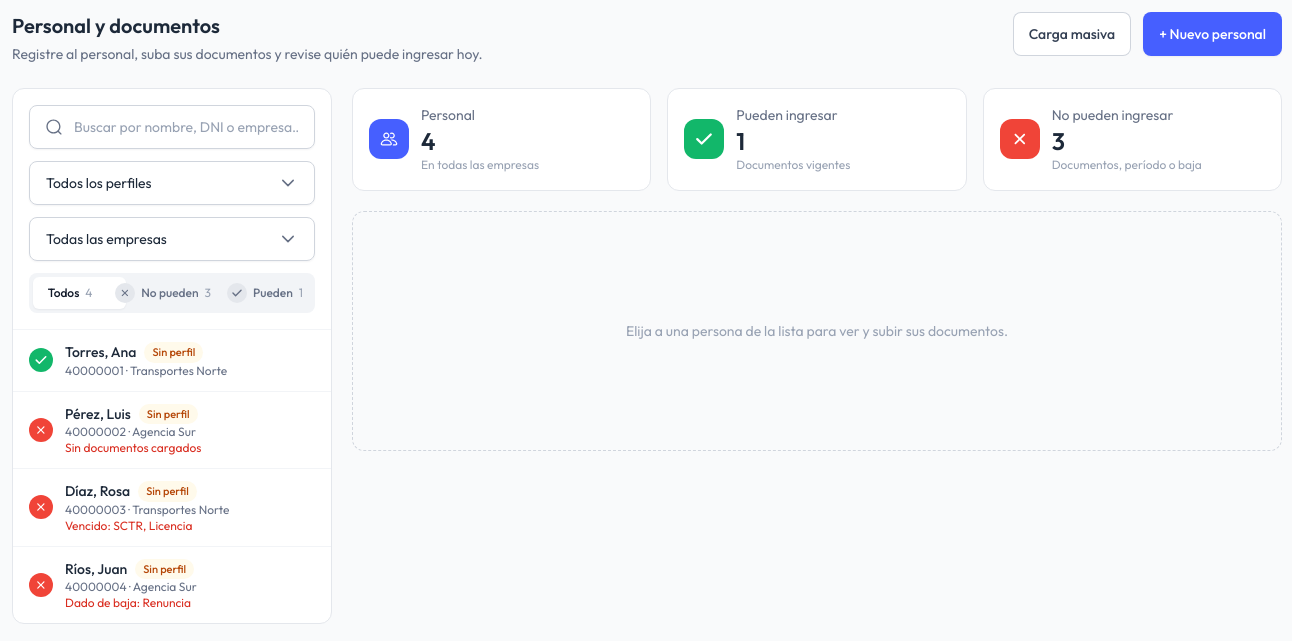
Scenario: Personal y documentos › filtra por empresa
Check: the text "Torres, Ana" is shown, box [65, 342, 136, 362]
Click the dropdown labelled "empresa" at coordinates (106, 239), box [29, 217, 315, 261]
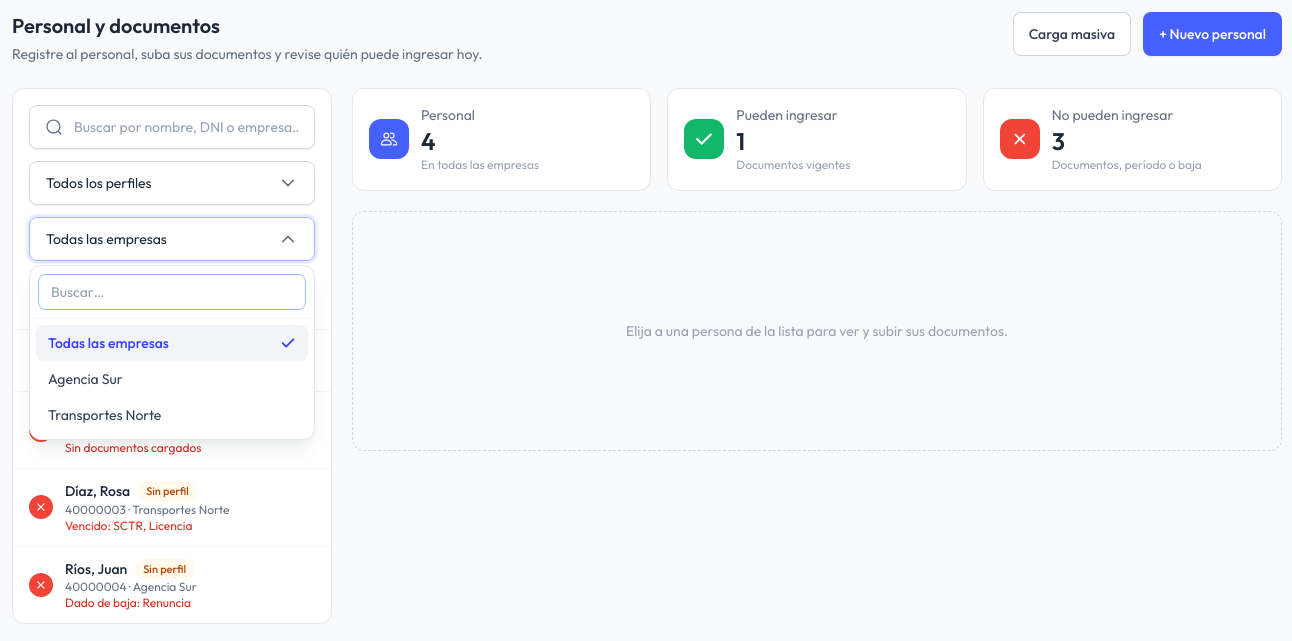
Click the option "Agencia Sur" at coordinates (85, 379), box [48, 370, 122, 388]
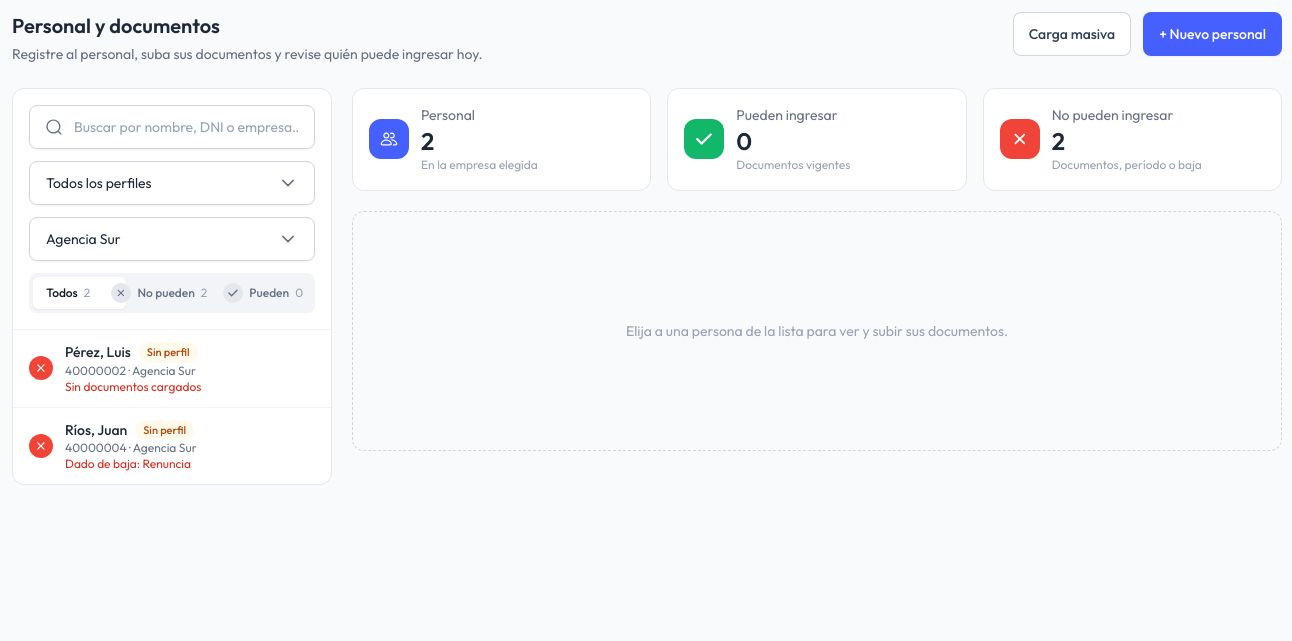
Check: the text "En la empresa elegida" is shown, box [421, 157, 538, 174]
